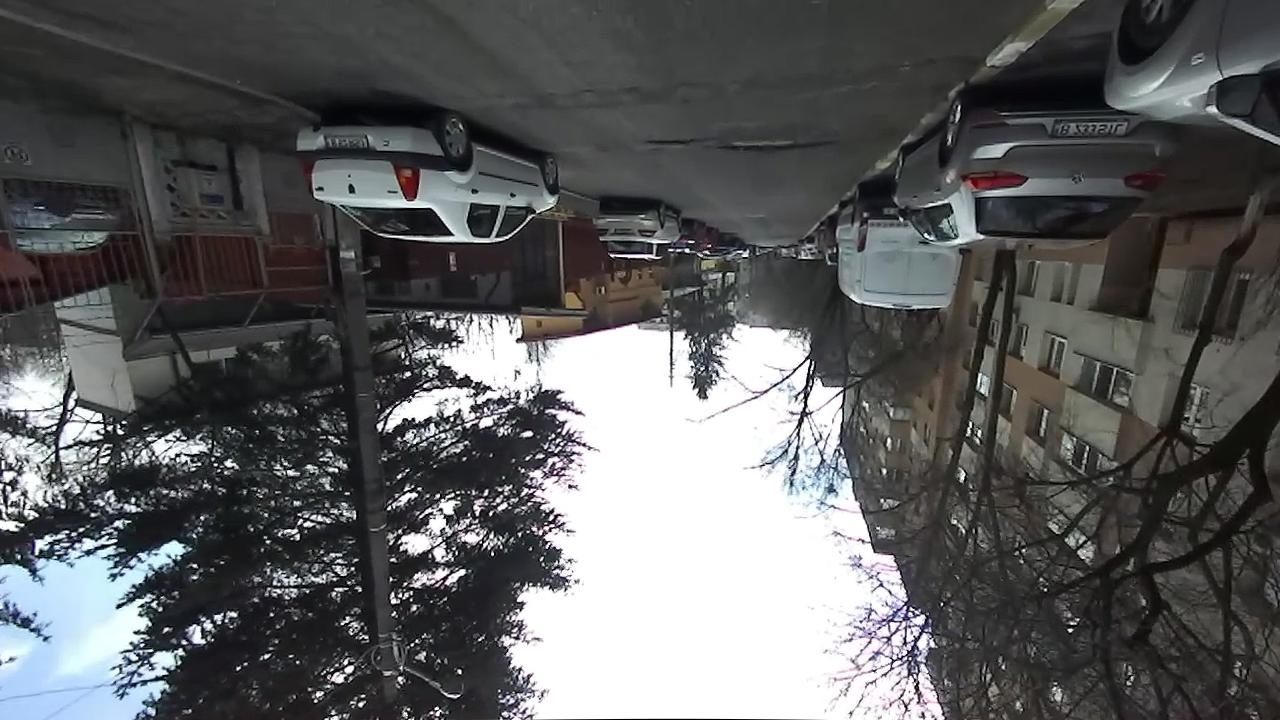pothole: (716, 133, 840, 156), (643, 134, 700, 147)
